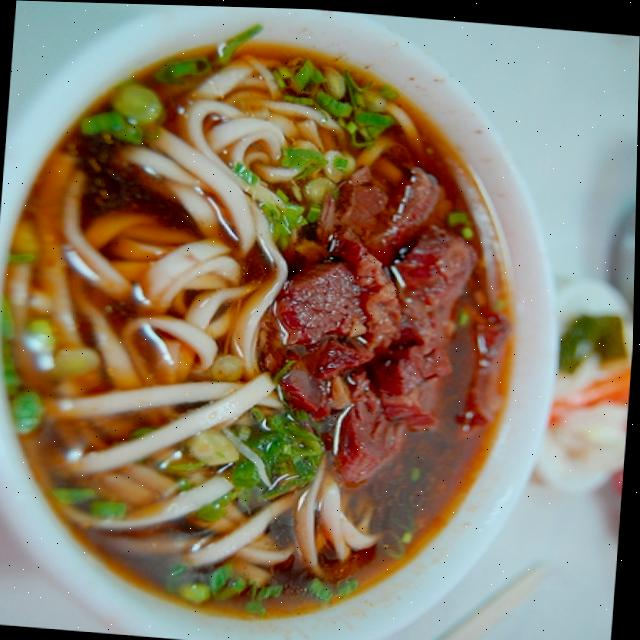面条主食: (0, 14, 580, 637)
